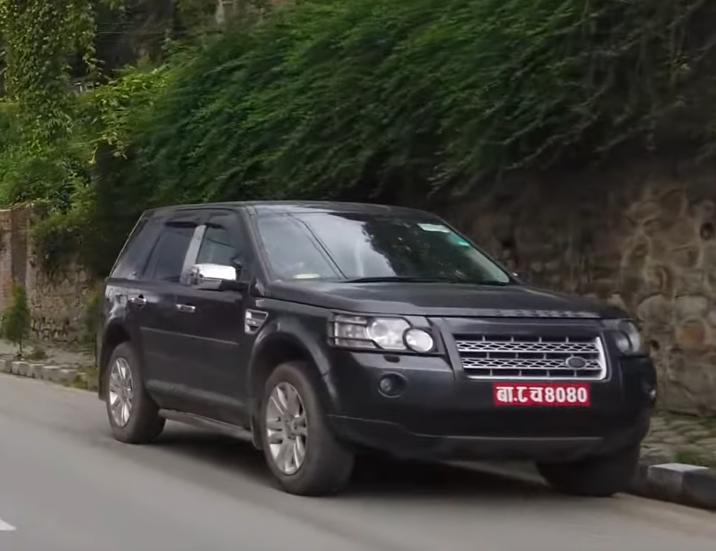SUV: (84, 178, 665, 515)
